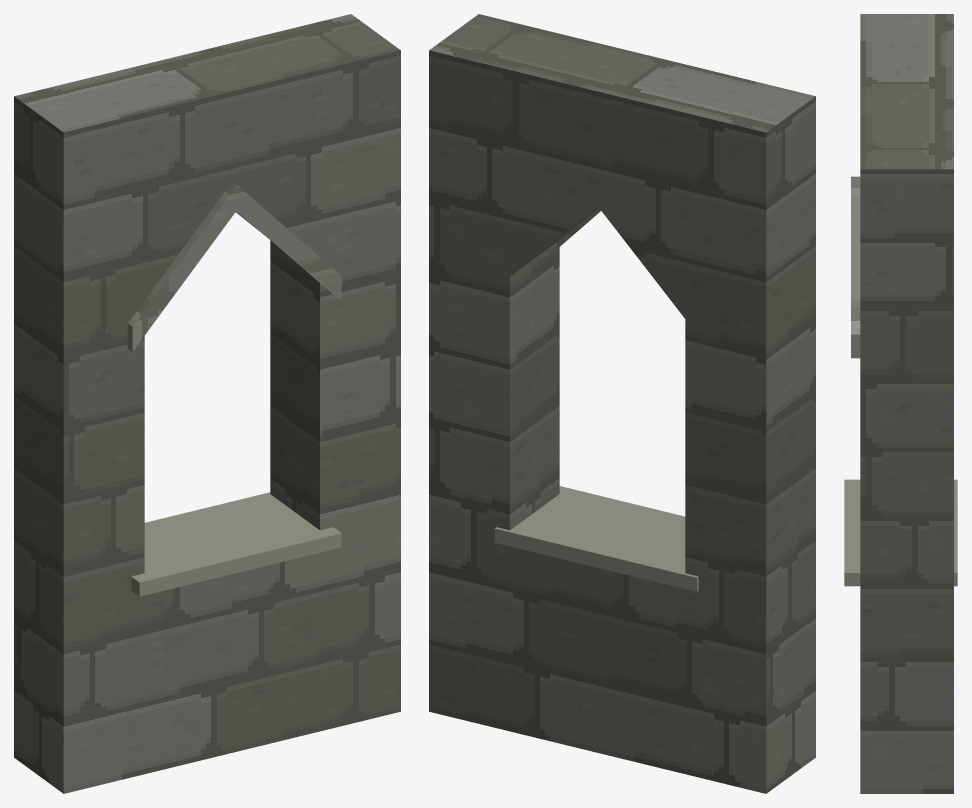
File: lancet_bay.glb
The picture shows the model from 3 angles, left to right: view 1: azimuth 30°, elevation 25°; view 2: azimuth 150°, elevation 25°; view 3: azimuth 270°, elevation 25°; orthographic projection. The views are drawn at different scales.
Parts seen in each view (by area): view 1: Lancet bay; view 2: Lancet bay; view 3: Lancet bay.
Part boxes in pixels (x1,y1,x2,y2): Lancet bay: [14, 14, 400, 793]; Lancet bay: [429, 14, 815, 793]; Lancet bay: [844, 14, 957, 793].
Bounding box in the file's own units: 1 × 1.88 × 0.308.
3 materials, 2 textured.
